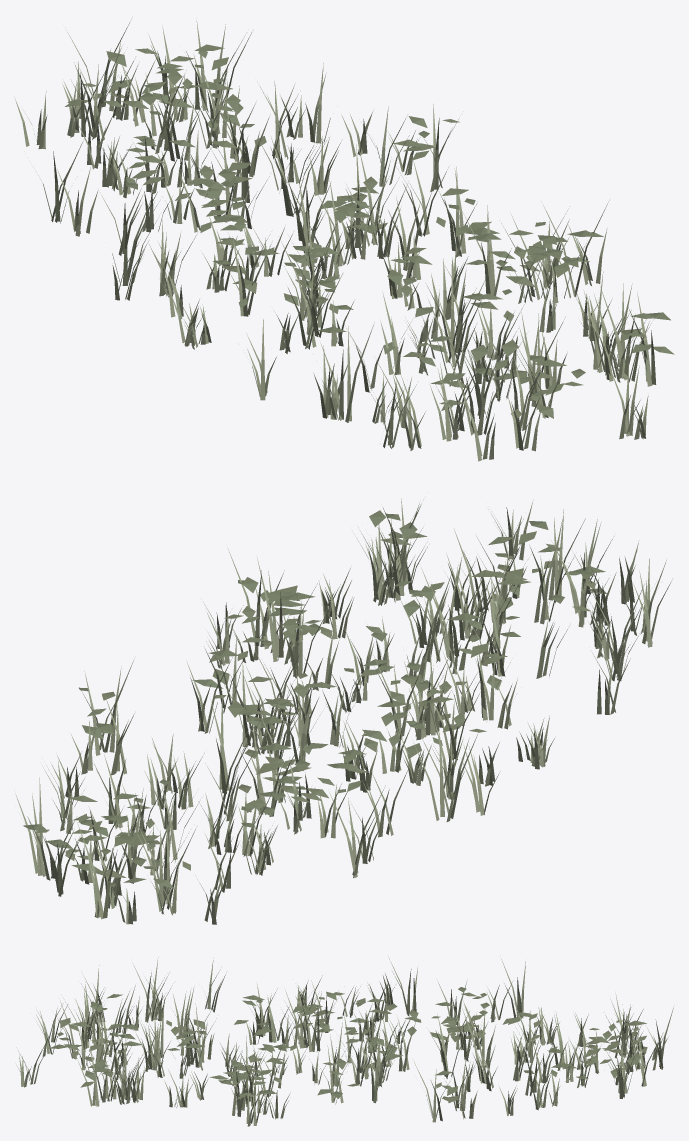
File: AE_Encroachment_00.fbx
The picture shows the model from 3 angles, top to bottom: view 1: azimuth 30°, elevation 25°; view 2: azimuth 150°, elevation 25°; view 3: azimuth 270°, elevation 25°; orthographic projection. The views are drawn at different scales.
Visible parts, largest first — view 1: AE_Encroachment_00_LOD0; view 2: AE_Encroachment_00_LOD0; view 3: AE_Encroachment_00_LOD0.
Part boxes in pixels (x1=…): AE_Encroachment_00_LOD0: x1=14, y1=18, x2=674, y2=461; AE_Encroachment_00_LOD0: x1=15, y1=498, x2=671, y2=924; AE_Encroachment_00_LOD0: x1=16, y1=956, x2=673, y2=1126.
Size of what is drawn, in the model's own units: 469 by 110 by 992.
